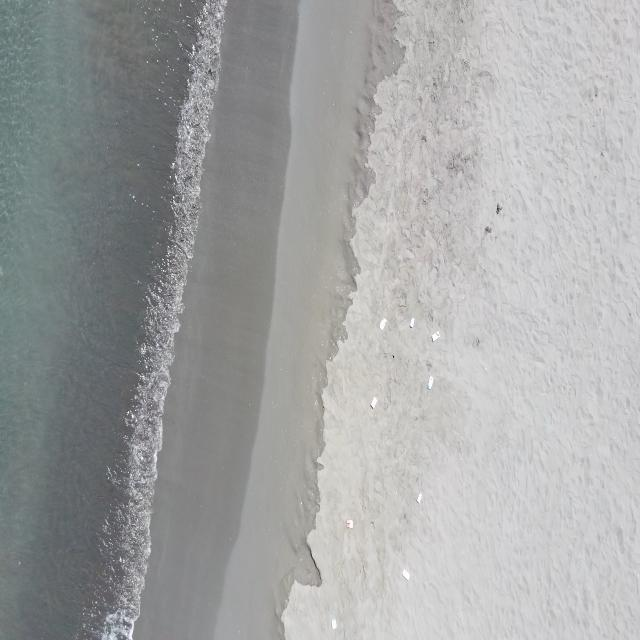Garbage: (402, 568, 409, 580), (369, 396, 376, 407), (415, 492, 422, 503), (432, 331, 440, 340), (331, 617, 336, 630), (427, 375, 432, 388), (379, 319, 386, 328), (346, 519, 352, 527), (408, 316, 412, 327)
